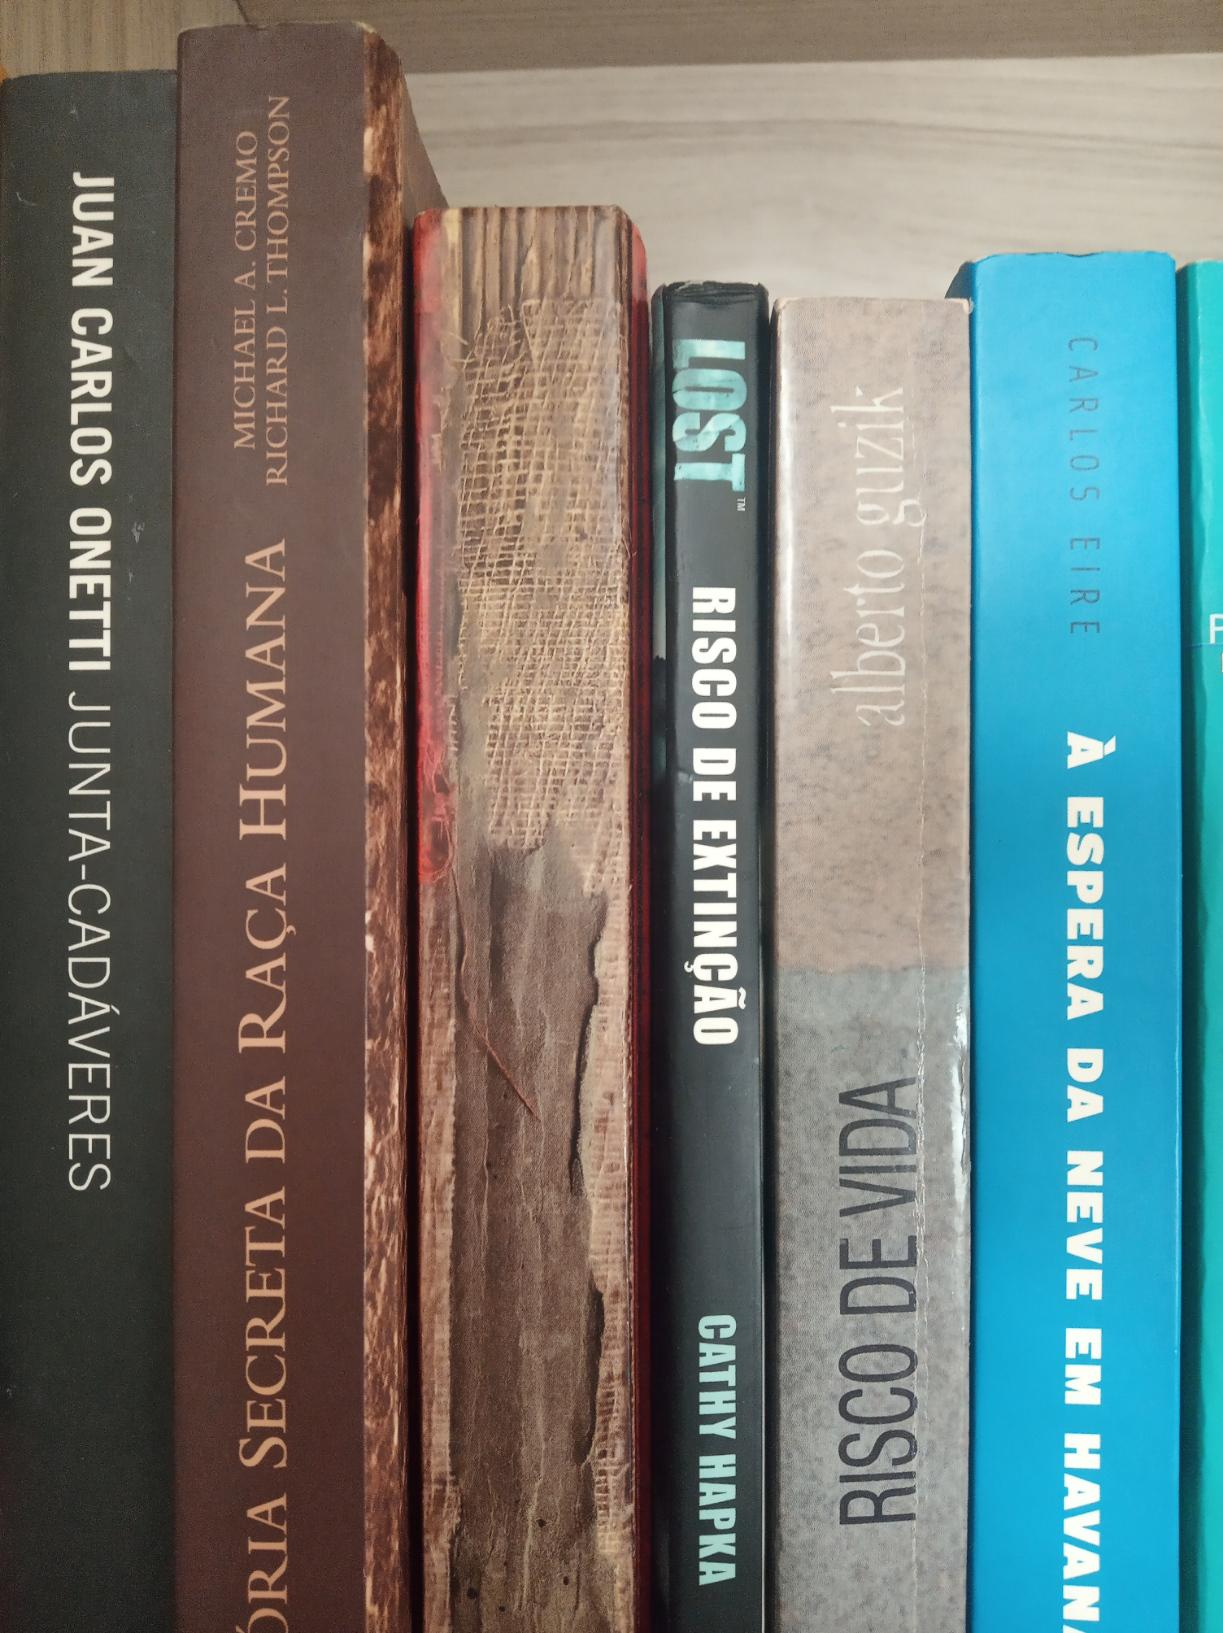book: (433, 225, 627, 1627), (989, 262, 1178, 1633), (189, 44, 346, 1621), (12, 91, 166, 1620), (781, 313, 960, 1627), (671, 298, 741, 1632)
